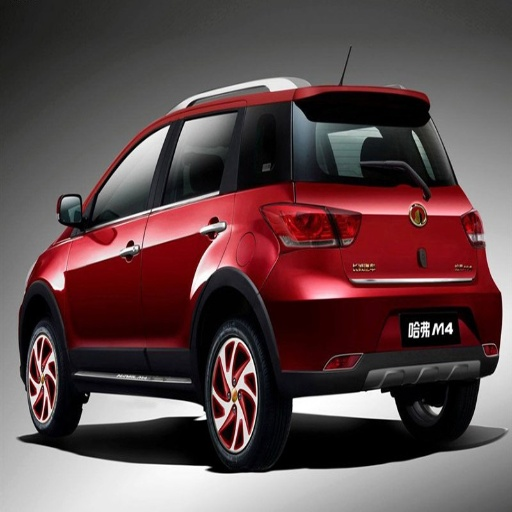back_bumper: (279, 255, 503, 380)
back_glass: (304, 95, 452, 185)
back_left_door: (143, 108, 238, 375)
trunk: (321, 188, 478, 337)
